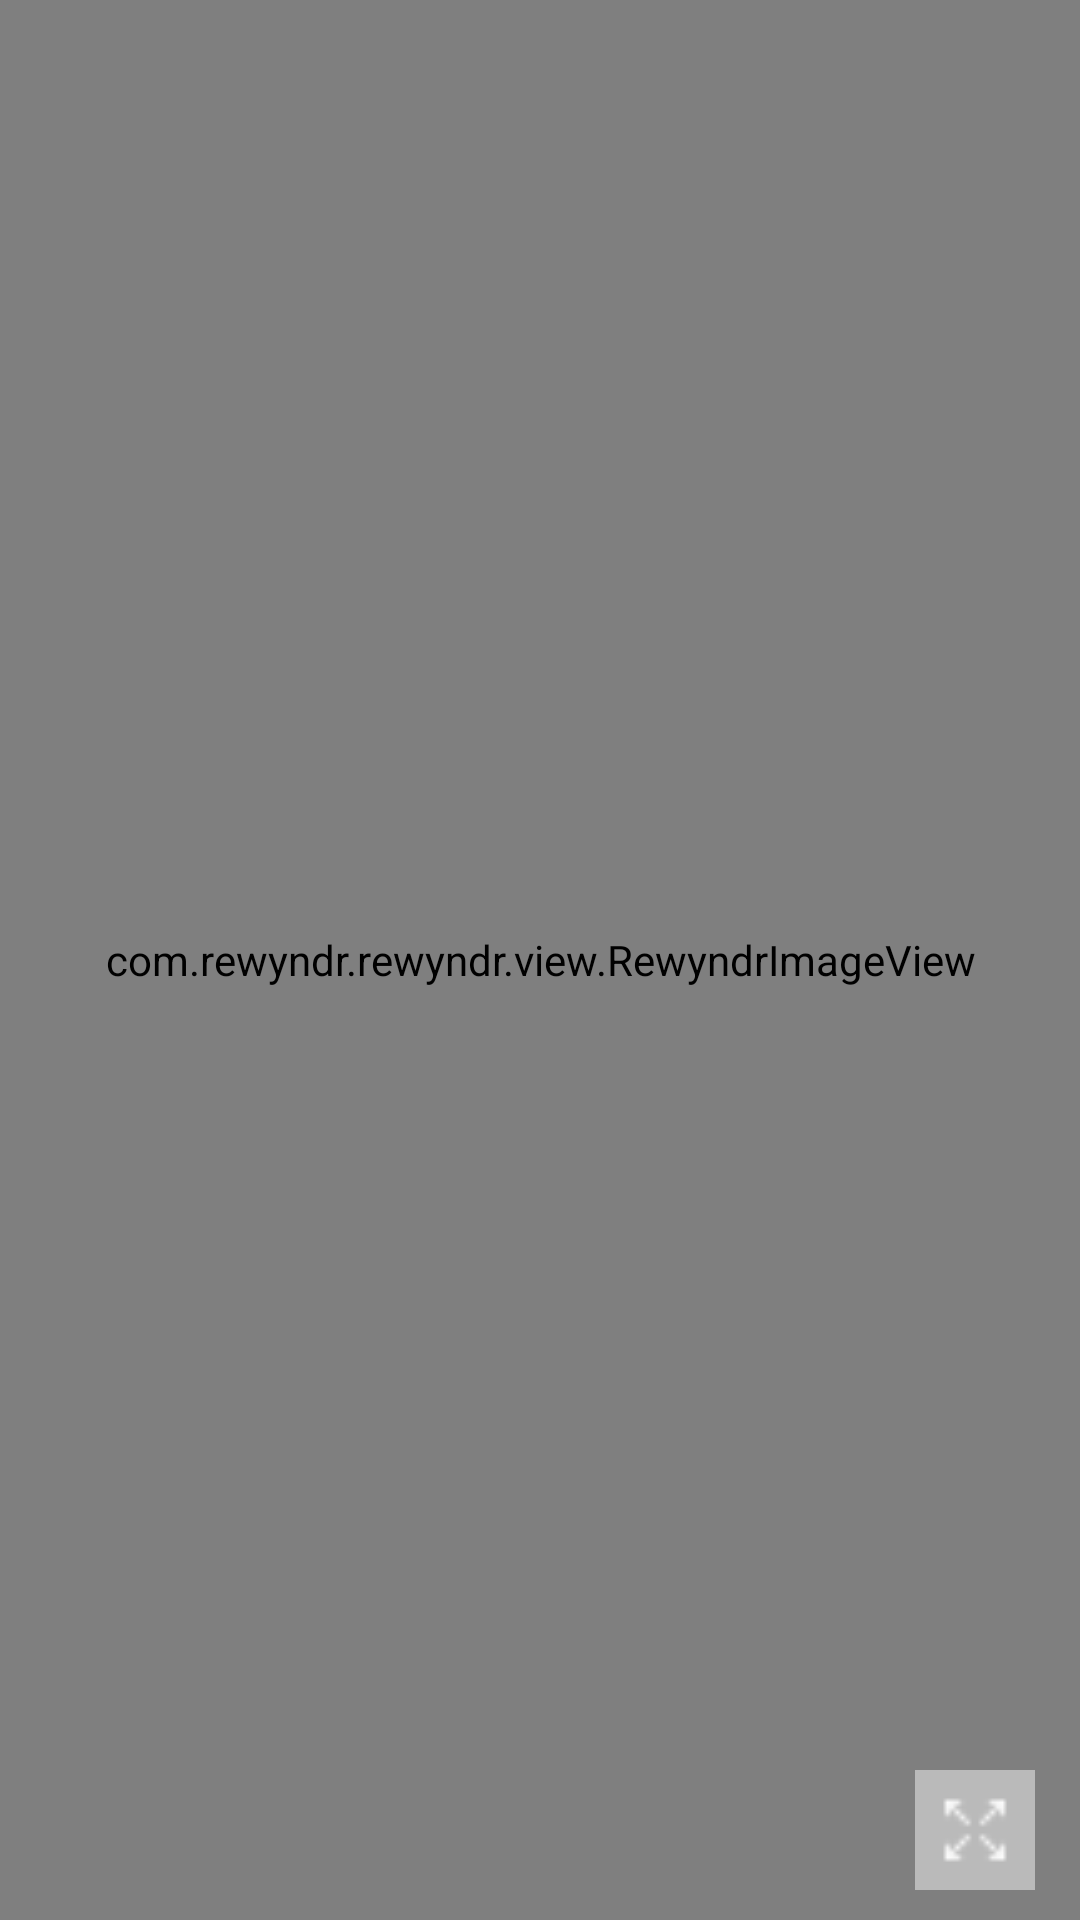

Screen size 1080px x 1920px. Icon name, then its box in pixels as [left=x1, top=y1, right=x2, bottom=y2]:
Zoom in: [left=915, top=1770, right=1035, bottom=1890]
